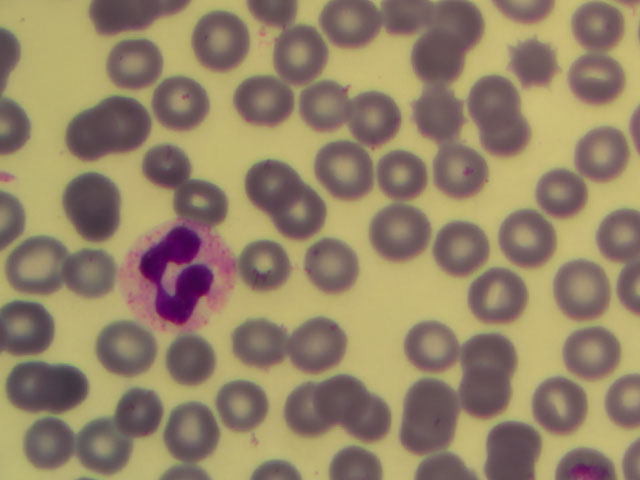RBC: (189, 8, 253, 79), (231, 65, 295, 136), (267, 16, 331, 87), (284, 64, 348, 135), (335, 80, 399, 151), (317, 139, 381, 210), (103, 38, 166, 97), (147, 71, 210, 130), (268, 184, 328, 243), (242, 154, 302, 213), (166, 172, 226, 231), (134, 141, 194, 200), (99, 95, 159, 154), (67, 109, 127, 168), (61, 175, 121, 234), (11, 236, 71, 295), (56, 246, 116, 305), (4, 296, 64, 355), (4, 353, 64, 412), (38, 358, 98, 417), (90, 321, 150, 380), (153, 330, 213, 389), (112, 387, 172, 446), (72, 420, 132, 479), (24, 414, 84, 473), (159, 397, 219, 456), (208, 379, 268, 438), (237, 316, 297, 375), (288, 314, 348, 373), (237, 236, 297, 295), (301, 232, 361, 291), (369, 203, 429, 262), (383, 146, 443, 205), (425, 144, 485, 203), (415, 81, 475, 140), (415, 35, 475, 94), (438, 1, 498, 60), (464, 61, 524, 120), (474, 102, 534, 161), (500, 33, 560, 92), (560, 48, 620, 107), (575, 6, 635, 65), (577, 125, 637, 184), (529, 165, 589, 224), (498, 203, 558, 262), (426, 223, 486, 282), (467, 267, 527, 326), (547, 256, 607, 315), (567, 319, 627, 378), (534, 374, 594, 433), (481, 414, 541, 473), (451, 368, 511, 427), (465, 331, 525, 390), (391, 316, 451, 375), (402, 382, 462, 441), (337, 393, 397, 452), (312, 371, 372, 430), (289, 388, 349, 447)
WBC: (125, 226, 226, 326)
